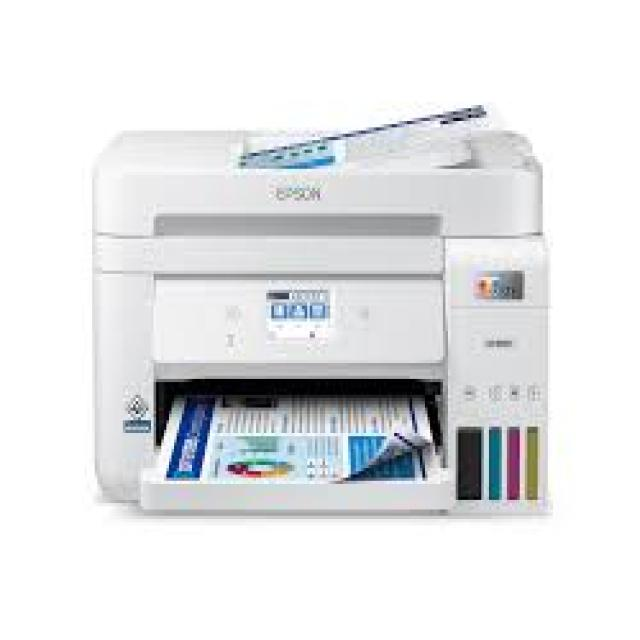printer: (90, 99, 550, 516)
